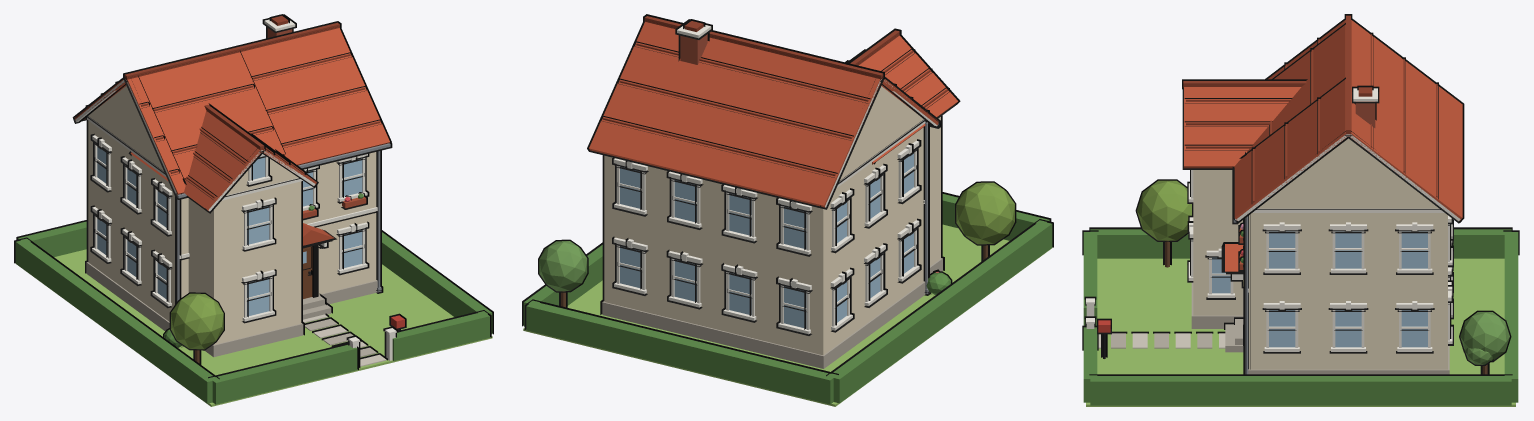
Rendered from MustakilEv_avrupa_1_2.fbx.
3 views of the same model, side by side, from view 1: azimuth 30°, elevation 25°; view 2: azimuth 150°, elevation 25°; view 3: azimuth 270°, elevation 25° (orthographic). The views are drawn at different scales.
Visible parts, largest first — view 1: MustakilEv_avrupa_1_2; view 2: MustakilEv_avrupa_1_2; view 3: MustakilEv_avrupa_1_2.
Part boxes in pixels (x1,y1,x2,y2): MustakilEv_avrupa_1_2: [14, 14, 493, 406]; MustakilEv_avrupa_1_2: [522, 14, 1053, 406]; MustakilEv_avrupa_1_2: [1082, 14, 1519, 406].
Size of the model in its own units: 11.74 by 9.69 by 14.11.
